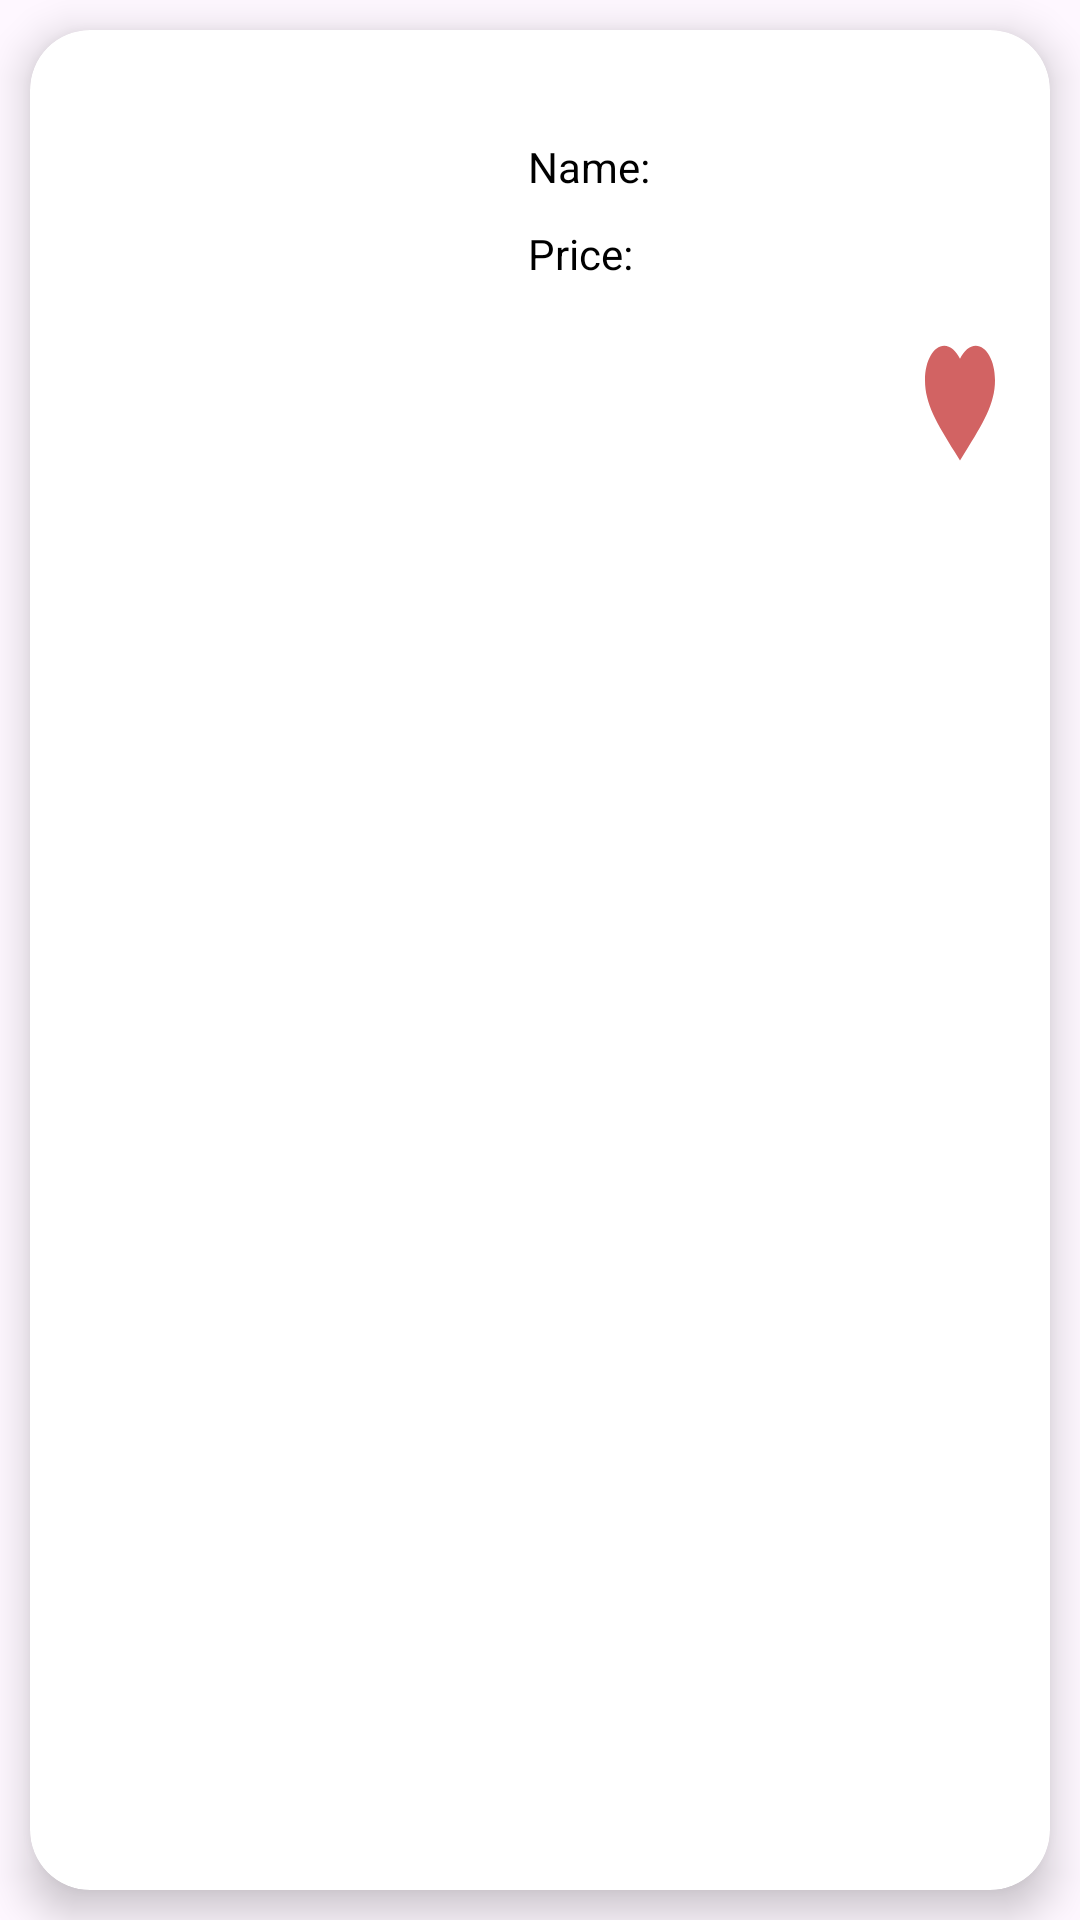

Where icons sit on this 1080px×1920px app screen, as (x1, y1, x2, y2):
favorite: (925, 345, 995, 460)
